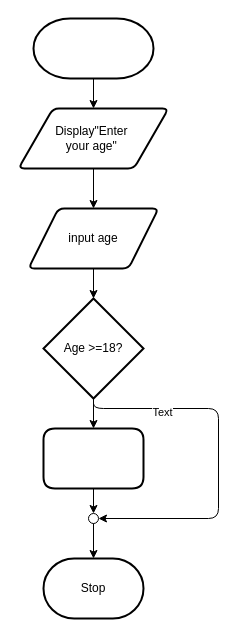
Some shapes in this 244 by 636 pixel diagram are drawn without their labels. The box of each missing label's shape, as (x1, y1, x2, y2) in pixels:
''You are adult": (42, 427, 144, 489)
Start: (32, 17, 154, 79)
